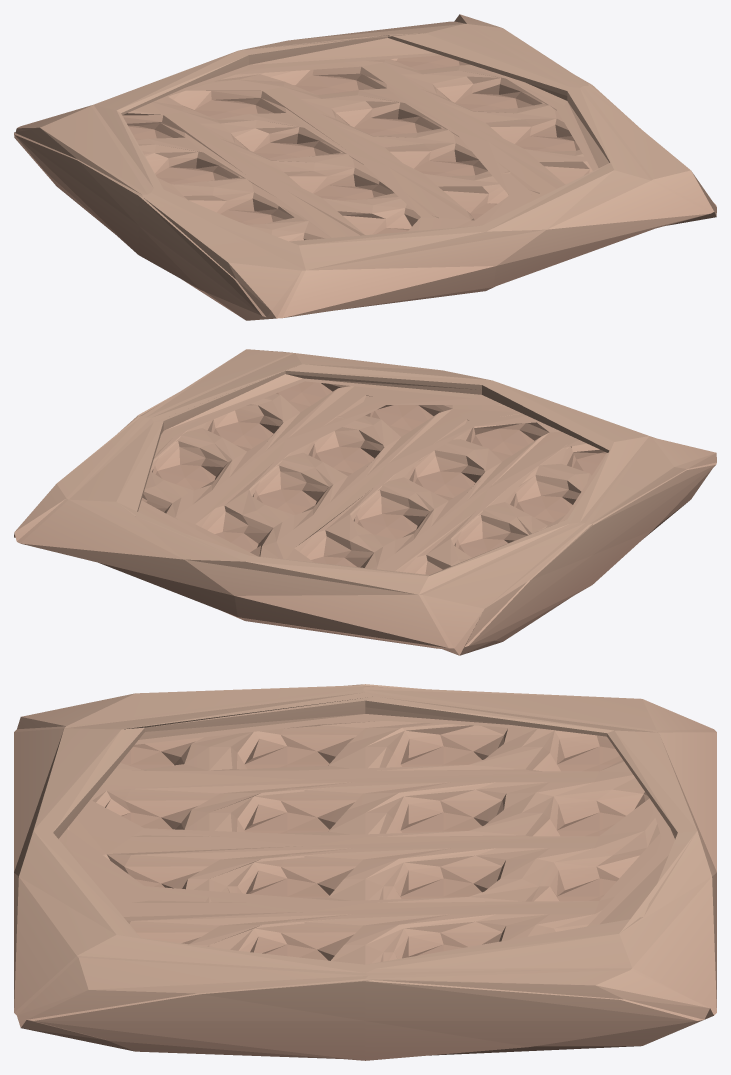
Rendered from waffle.glb.
3 views of the same model, one above another, from view 1: azimuth 30°, elevation 25°; view 2: azimuth 150°, elevation 25°; view 3: azimuth 270°, elevation 25° (orthographic). The views are drawn at different scales.
Bounding box in the file's own units: 1 × 0.125 × 1.
